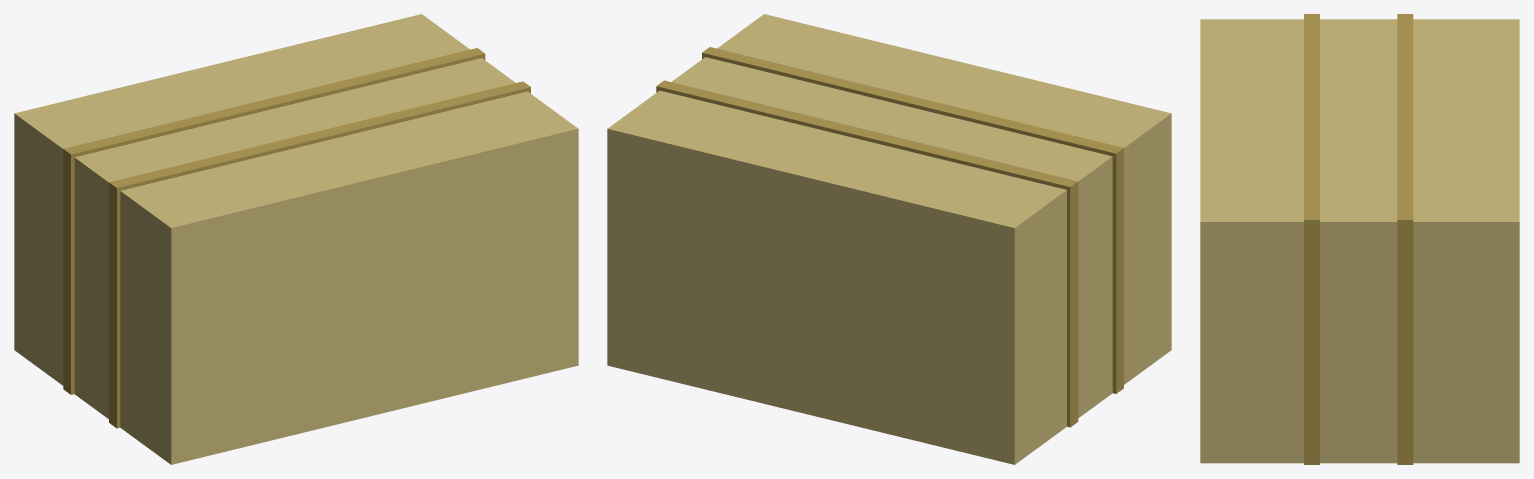
File: hay_bale.glb
3 renders of one model, left to right at view 1: azimuth 30°, elevation 25°; view 2: azimuth 150°, elevation 25°; view 3: azimuth 270°, elevation 25°, orthographic.
Visible parts, largest first — view 1: bale; view 2: bale; view 3: bale.
Part boxes in pixels (x1,y1,x2,y2): bale: (14,14,578,464); bale: (607,14,1171,464); bale: (1200,14,1519,464).
Size of the model in its own units: 2.29 by 1.27 by 1.5.
